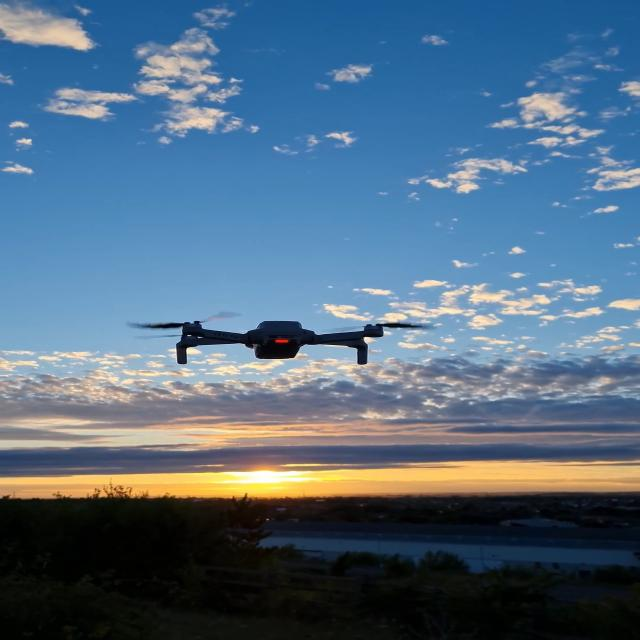Drone: (124, 295, 444, 375)
